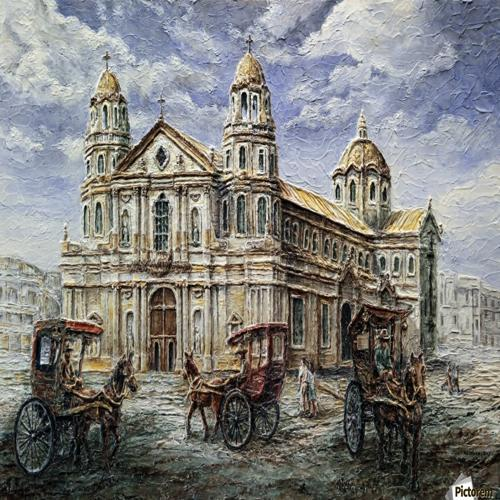Quiapo Church: (47, 37, 292, 396)
